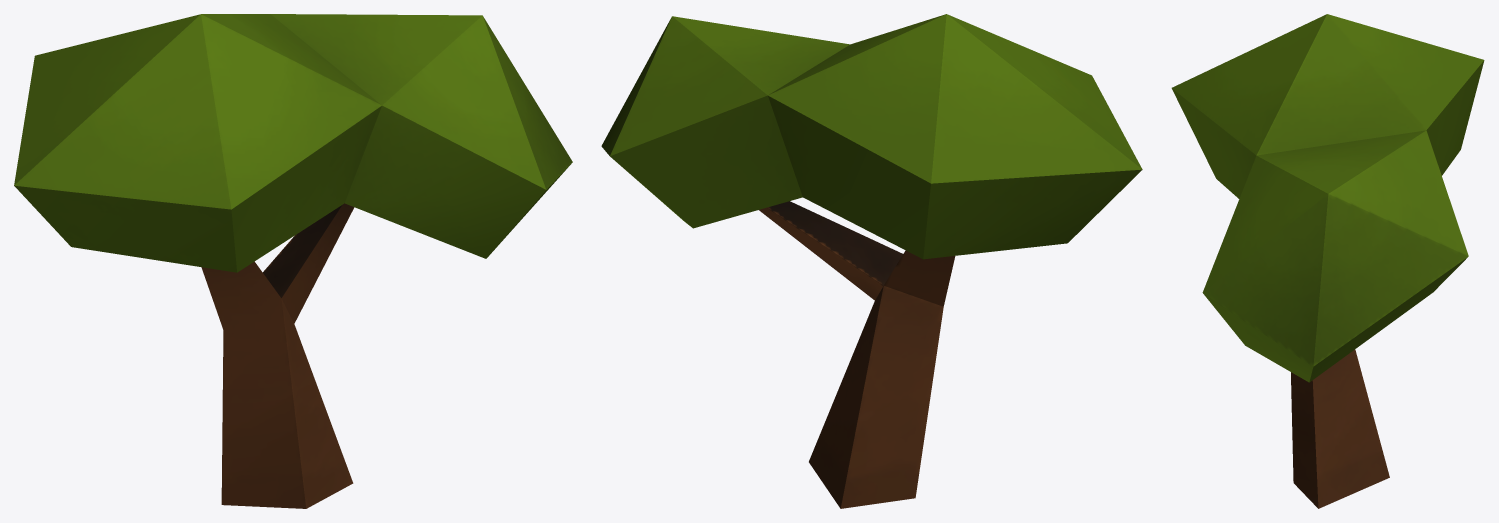
File: Leave_tree_C2_01.FBX
The picture shows the model from 3 angles, left to right: view 1: azimuth 30°, elevation 25°; view 2: azimuth 150°, elevation 25°; view 3: azimuth 270°, elevation 25°; orthographic projection. The views are drawn at different scales.
Visible parts, largest first — view 1: Leave_tree_C2_01; view 2: Leave_tree_C2_01; view 3: Leave_tree_C2_01.
Boxes of the visible parts, left/top/right/bottom form: Leave_tree_C2_01: left=14, top=14, right=572, bottom=508; Leave_tree_C2_01: left=601, top=14, right=1142, bottom=508; Leave_tree_C2_01: left=1171, top=14, right=1484, bottom=508.
Size of the model in its own units: 52.78 by 29.67 by 45.29.
